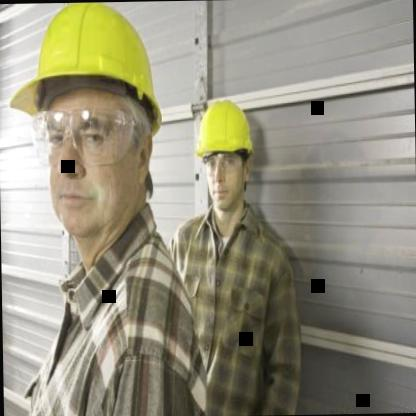helmet: (6, 0, 174, 258), (186, 80, 262, 228)
